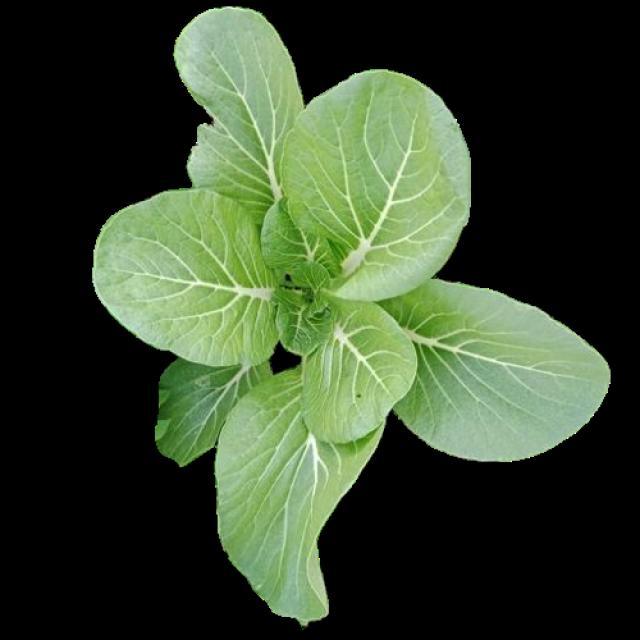not-mature: (98, 12, 606, 622)
unhealthy: (175, 8, 304, 193), (300, 302, 416, 439)
